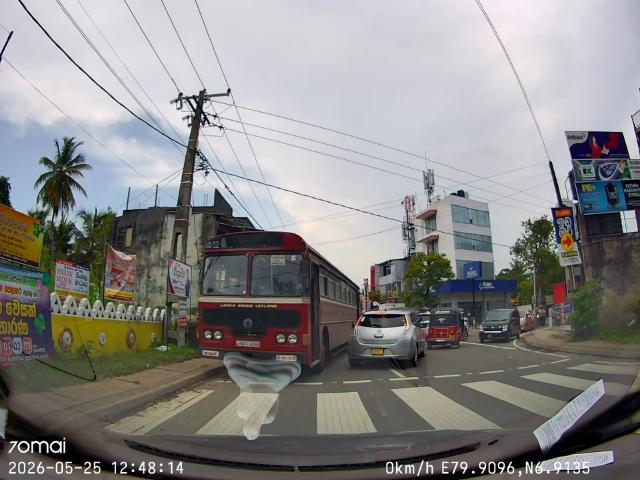illegal overtaking: (195, 227, 343, 372)
